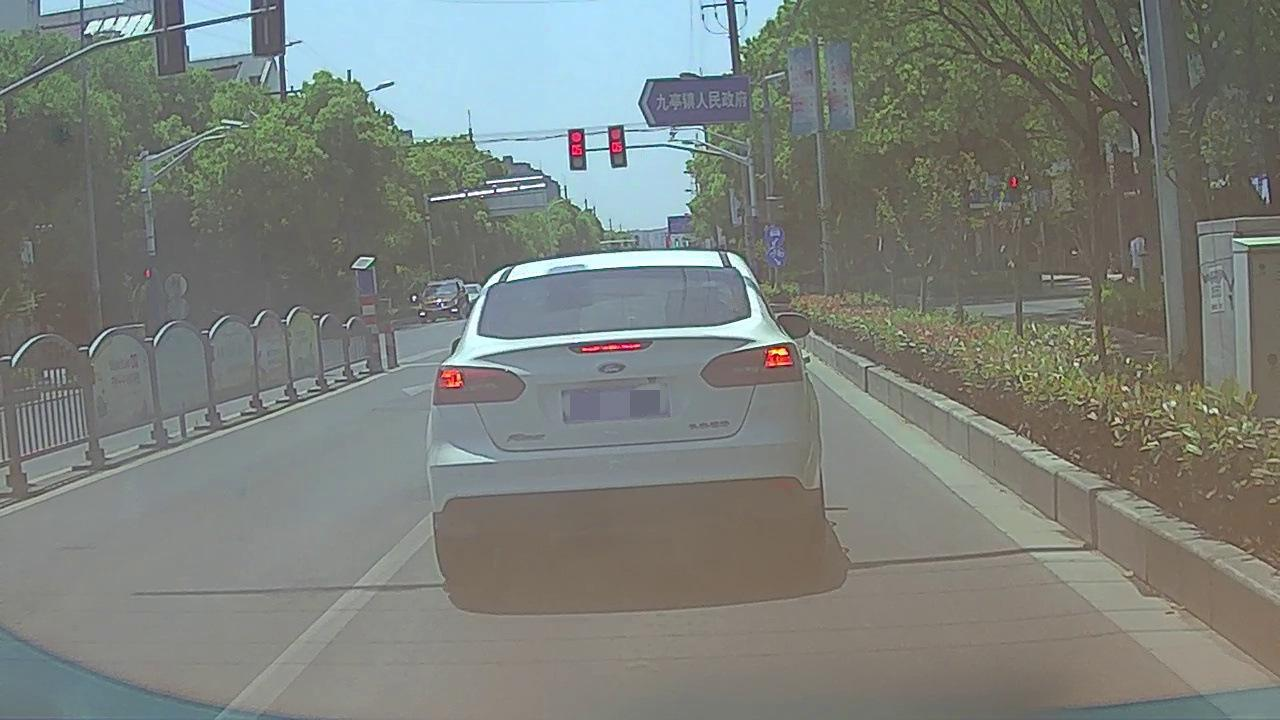traffic_light: (609, 126, 627, 169), (568, 130, 586, 171)
